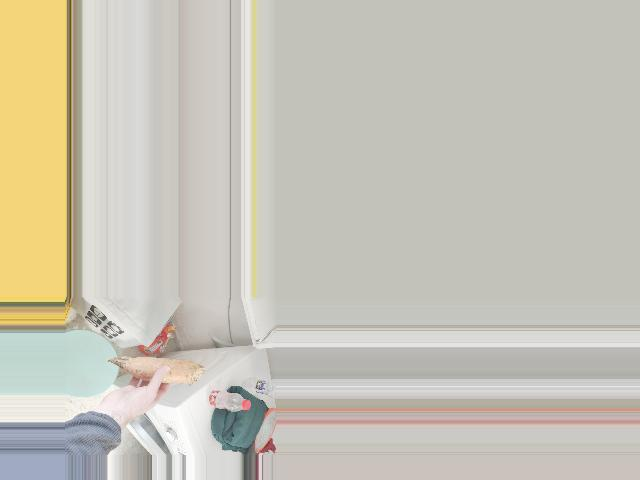sweet_potato: (106, 359, 208, 380)
